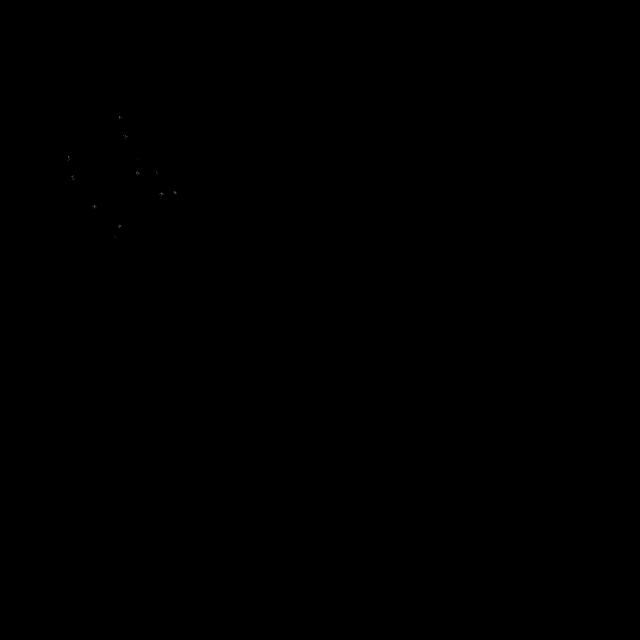medium_debris: (48, 107, 176, 246)
